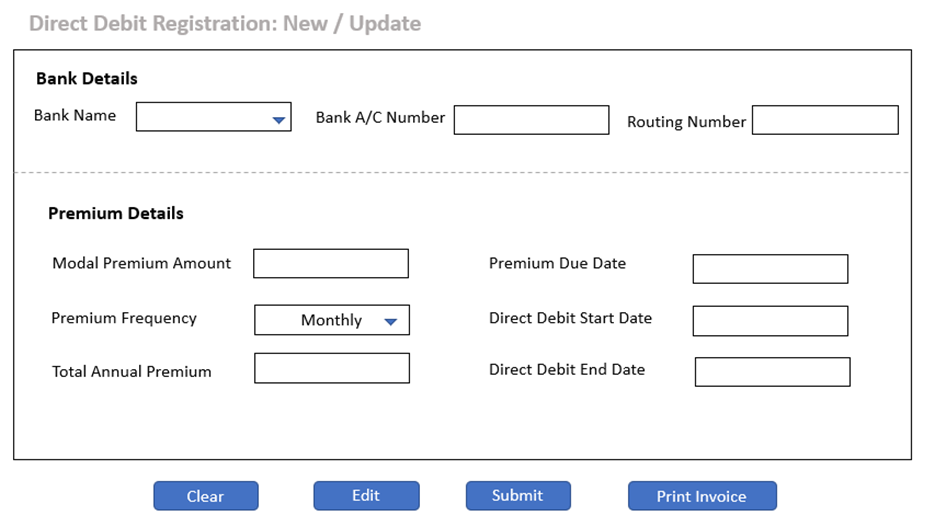button: (620, 474, 782, 519), (143, 474, 277, 521), (305, 476, 429, 518), (459, 477, 578, 518)
